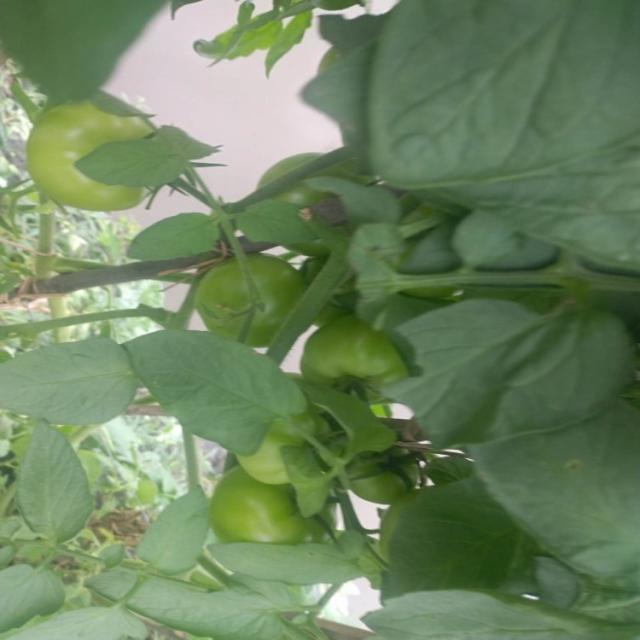tomato: (28, 97, 158, 221), (198, 247, 307, 350), (300, 314, 408, 402), (206, 463, 306, 549), (235, 432, 302, 485)
